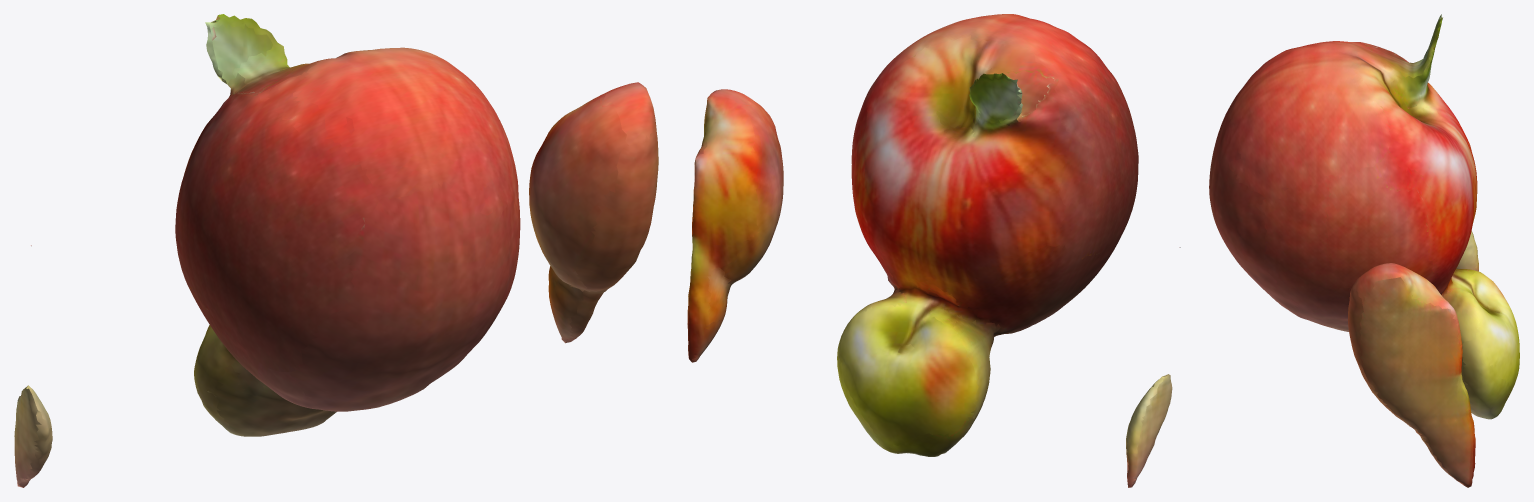
File: ASingularApple-67b2.glb
3 views of the same model, side by side, from view 1: azimuth 30°, elevation 25°; view 2: azimuth 150°, elevation 25°; view 3: azimuth 270°, elevation 25° (orthographic). The views are drawn at different scales.
Parts seen in each view (by area): view 1: world; view 2: world; view 3: world.
Part boxes in pixels (<box>): world: <box>14,14,658,487</box>; world: <box>687,14,1180,487</box>; world: <box>1209,14,1519,487</box>.
Bounding box in the file's own units: 0.9476 × 0.7036 × 0.5527.
1 material, 1 textured.
